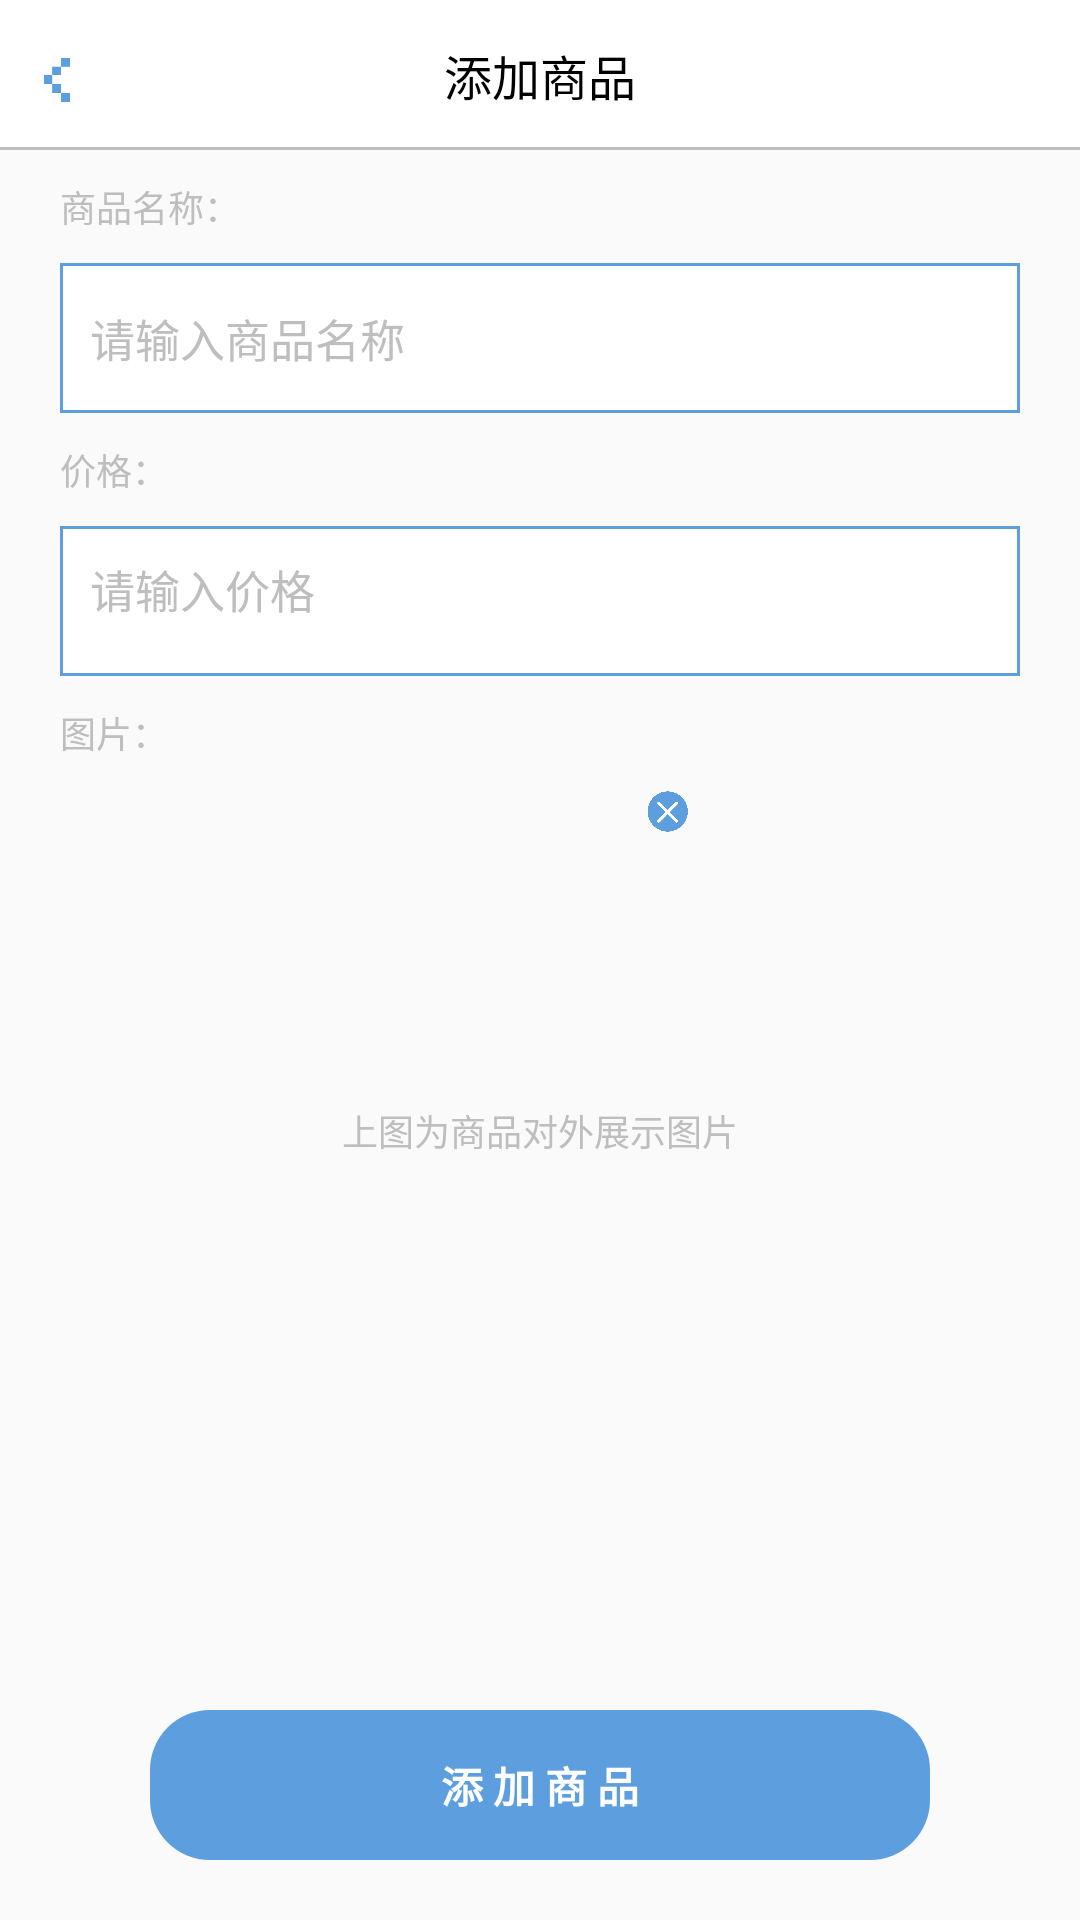

Where icons sit on this 1080px x 1920px app screen, as (x1, y1, x2, y2):
back: (44, 58, 70, 102)
close: (648, 791, 688, 832)
